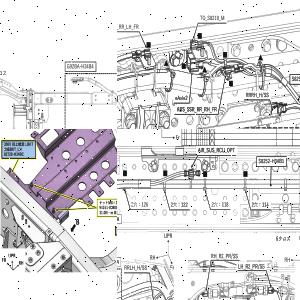PartNumber: (66, 63, 94, 70), (258, 158, 285, 164), (4, 151, 25, 158), (98, 204, 117, 210), (291, 75, 300, 82)
